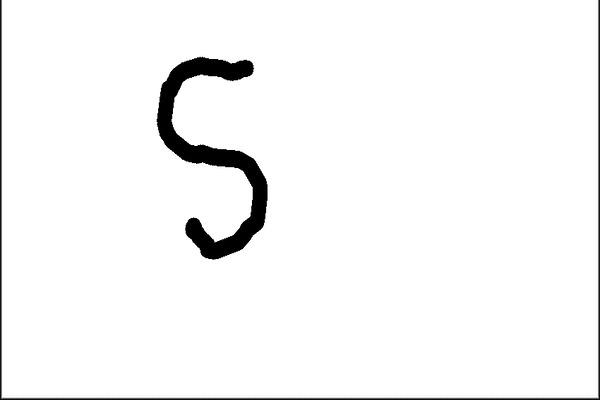S: (153, 51, 271, 263)
